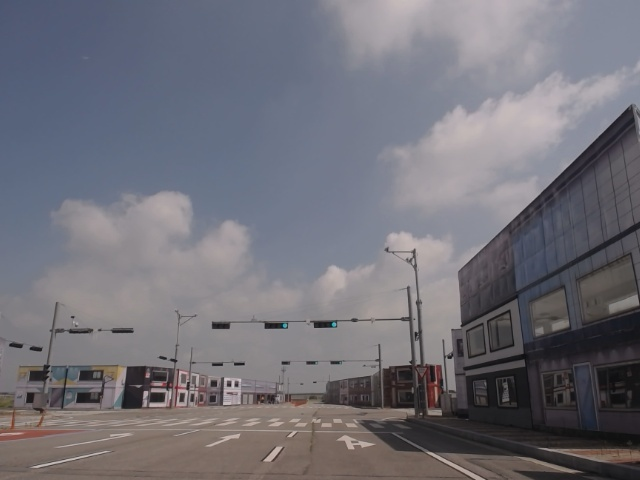straight_green_4: (313, 321, 338, 328), (266, 322, 287, 328)
